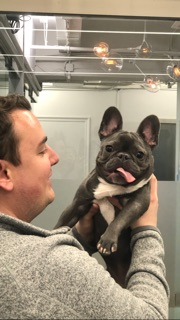lucy: (56, 104, 160, 281)
